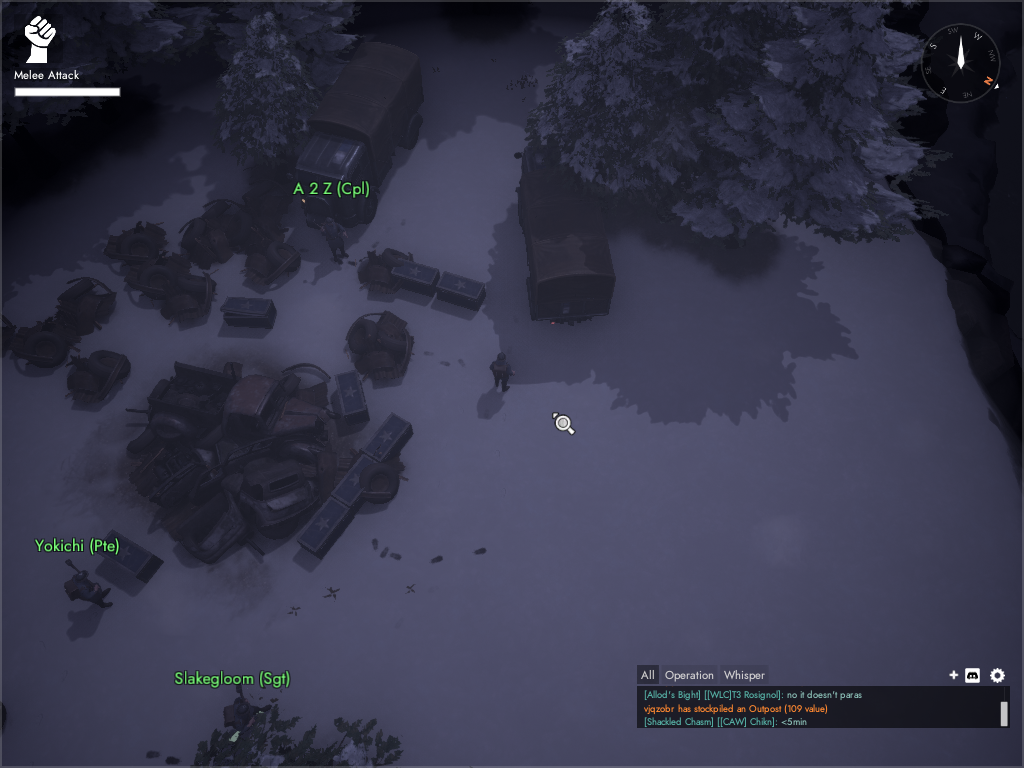player: (222, 682, 273, 743), (61, 558, 113, 611), (313, 217, 351, 267), (488, 352, 514, 394)
scrap: (131, 257, 223, 326), (339, 303, 415, 383), (173, 194, 248, 268), (48, 271, 121, 340), (96, 219, 173, 280), (346, 452, 429, 508), (59, 343, 133, 405), (8, 316, 81, 371), (241, 232, 308, 289), (355, 243, 412, 299), (241, 176, 296, 233)
scrapyard: (124, 360, 339, 564)
storage_box: (92, 526, 163, 585), (295, 495, 356, 560), (328, 453, 388, 512), (357, 413, 413, 466), (331, 368, 374, 426), (430, 269, 485, 311), (388, 255, 442, 297), (219, 294, 278, 329)
truck: (293, 36, 424, 227), (514, 140, 618, 329)
